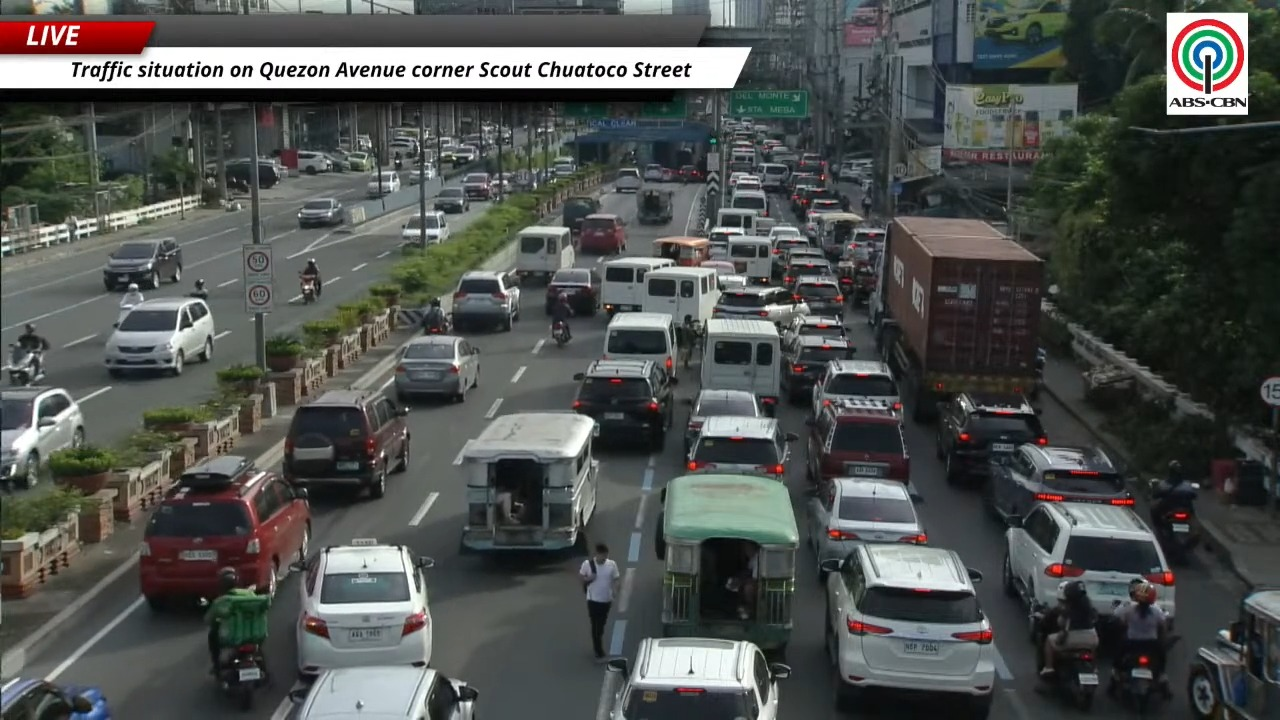car: (820, 543, 997, 719), (139, 455, 311, 609), (291, 538, 433, 677), (1002, 502, 1174, 616), (608, 638, 790, 719), (283, 389, 410, 498), (986, 443, 1134, 516), (806, 477, 926, 566), (288, 666, 477, 719), (935, 393, 1047, 482), (572, 360, 677, 450), (806, 399, 909, 488), (103, 297, 215, 376), (0, 386, 84, 486), (687, 415, 798, 481), (394, 335, 479, 401), (781, 333, 855, 404), (684, 389, 763, 455), (812, 359, 901, 416), (0, 678, 112, 719), (102, 238, 183, 291), (452, 270, 520, 330), (983, 0, 1067, 45), (712, 286, 808, 324), (545, 268, 601, 315), (771, 231, 824, 277), (789, 275, 844, 317), (781, 314, 846, 343), (782, 251, 833, 285), (401, 210, 450, 244), (297, 198, 345, 228), (777, 239, 825, 267), (790, 179, 818, 216), (432, 188, 469, 213), (367, 171, 400, 197), (760, 162, 789, 191), (297, 152, 333, 174), (797, 153, 826, 180), (462, 173, 492, 199), (850, 227, 887, 248), (388, 137, 419, 161), (614, 167, 643, 192), (769, 225, 802, 246), (787, 172, 819, 193), (408, 163, 437, 185), (452, 145, 481, 166), (324, 149, 348, 172), (834, 159, 859, 181), (717, 274, 749, 291), (345, 152, 372, 170), (551, 160, 577, 178), (727, 171, 753, 189), (734, 176, 762, 192), (679, 165, 702, 182), (643, 165, 662, 181), (661, 168, 678, 182)
motorcycle: (1153, 483, 1199, 564), (1108, 653, 1167, 716), (216, 643, 269, 711), (1044, 649, 1098, 710), (218, 644, 267, 711), (5, 343, 44, 386), (1028, 347, 1046, 398), (423, 314, 452, 336), (113, 303, 135, 327), (551, 321, 569, 346), (300, 275, 316, 303)
truck: (872, 217, 1044, 422), (637, 188, 672, 224)
